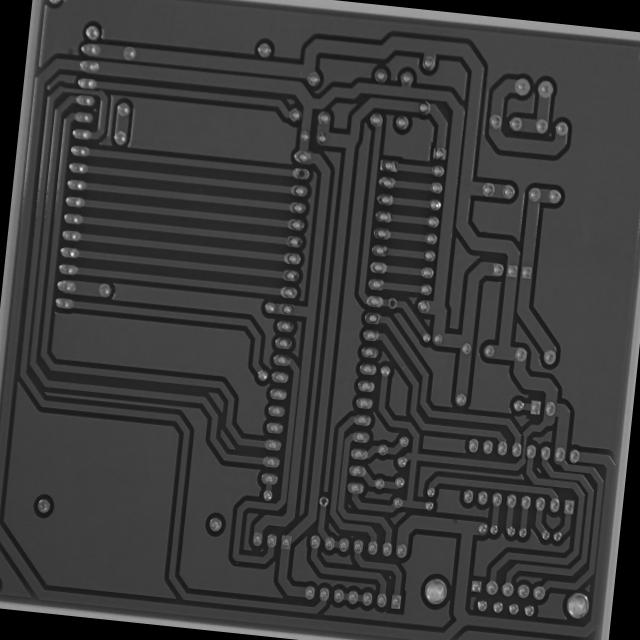missing_hole: (291, 165, 311, 182), (383, 293, 398, 312), (316, 493, 331, 511)
